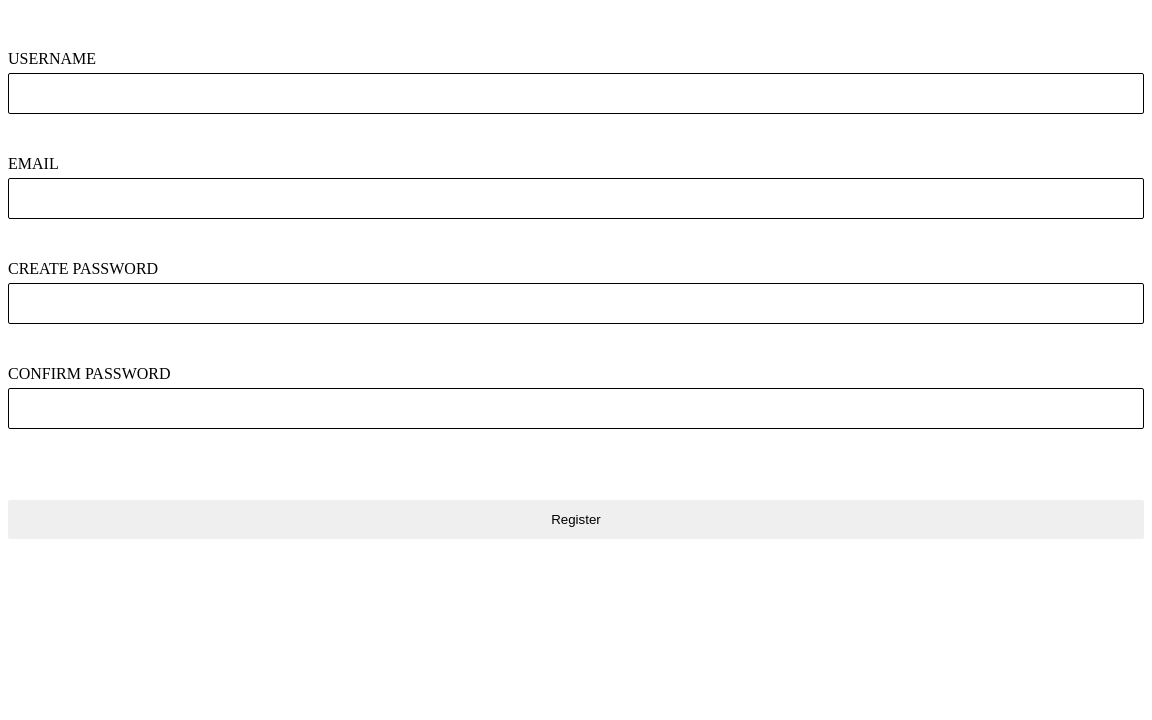
it: should render password error on weak password
Type "short" into the password field labelled "CREATE PASSWORD" at coordinates (576, 304), box [8,283,1144,324]
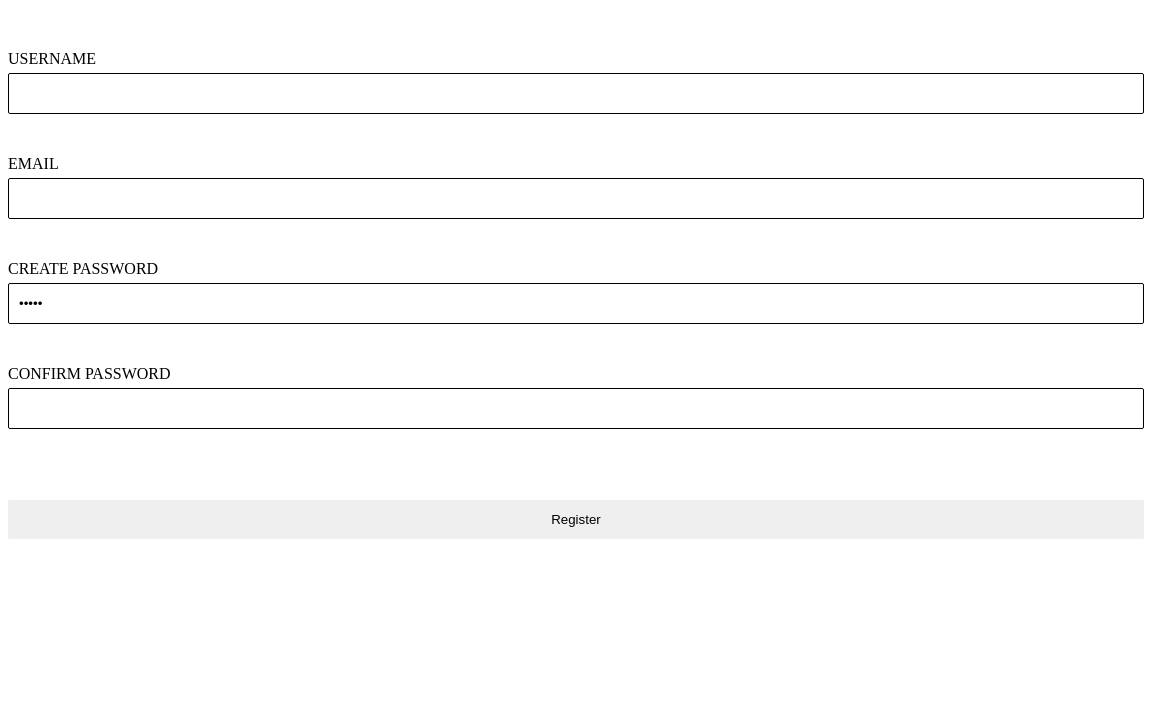
Click the button "Register" at coordinates (576, 520), box [8,500,1144,539]
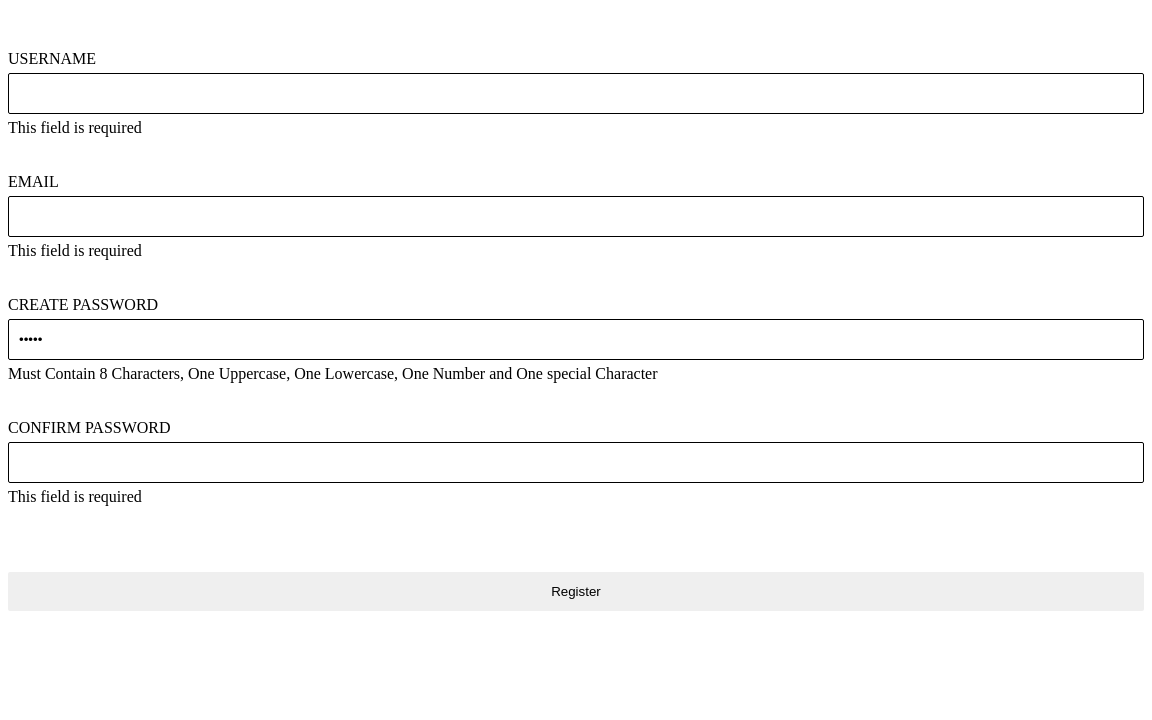
Expected: the text "Must Contain" is shown, [8,365,658,382]
Type "Password123!" into the password field labelled "CREATE PASSWORD" at coordinates (576, 340), box [8,319,1144,360]
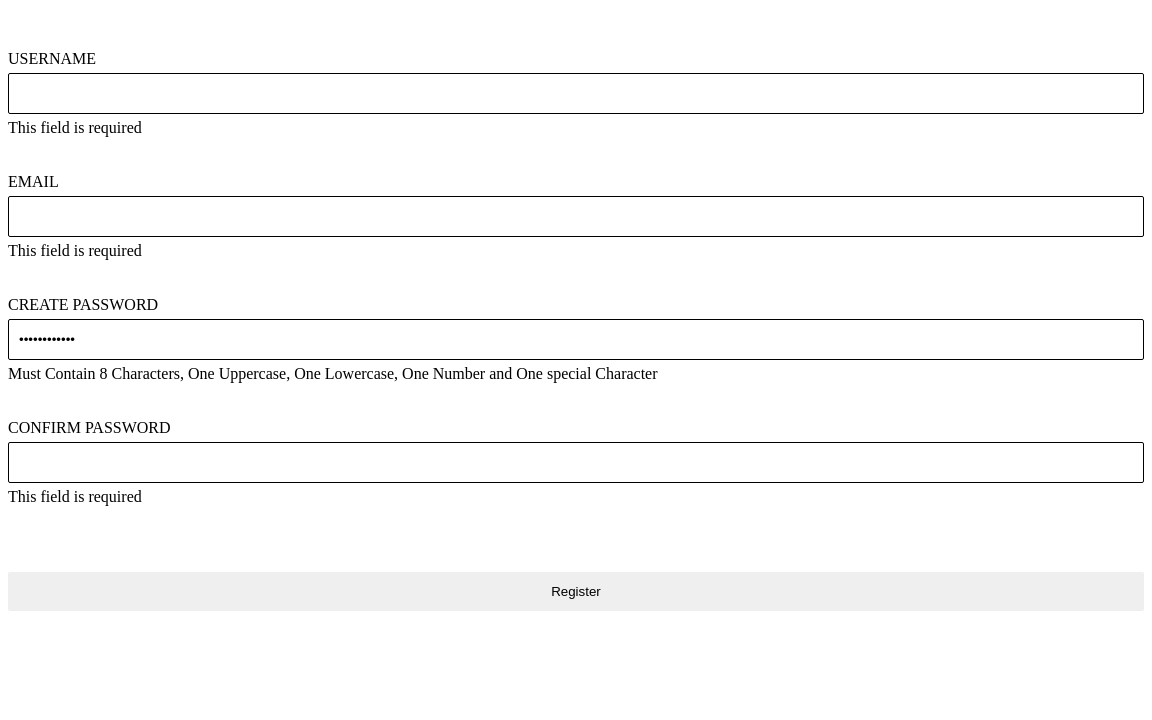
Click the button "Register" at coordinates (576, 592), box [8,572,1144,611]
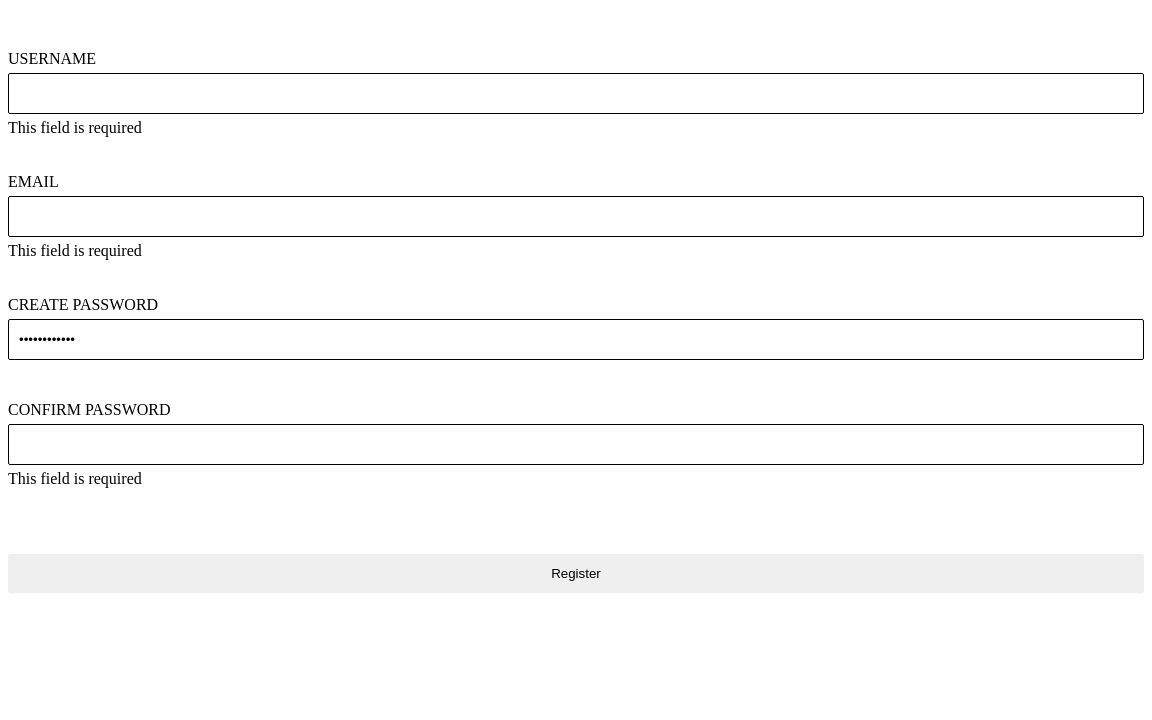
Expected: the text "Must Contain" is gone
Type "Password123" into the password field labelled "CREATE PASSWORD" at coordinates (576, 340), box [8,319,1144,360]
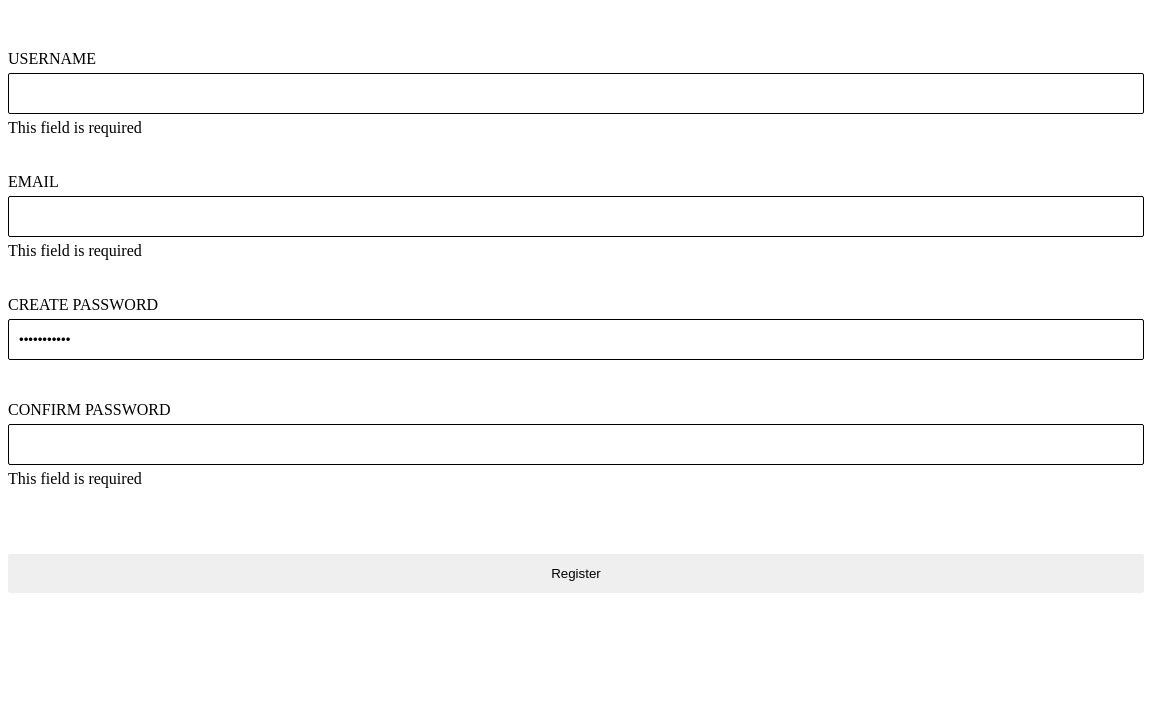
Click the button "Register" at coordinates (576, 574), box [8,554,1144,593]
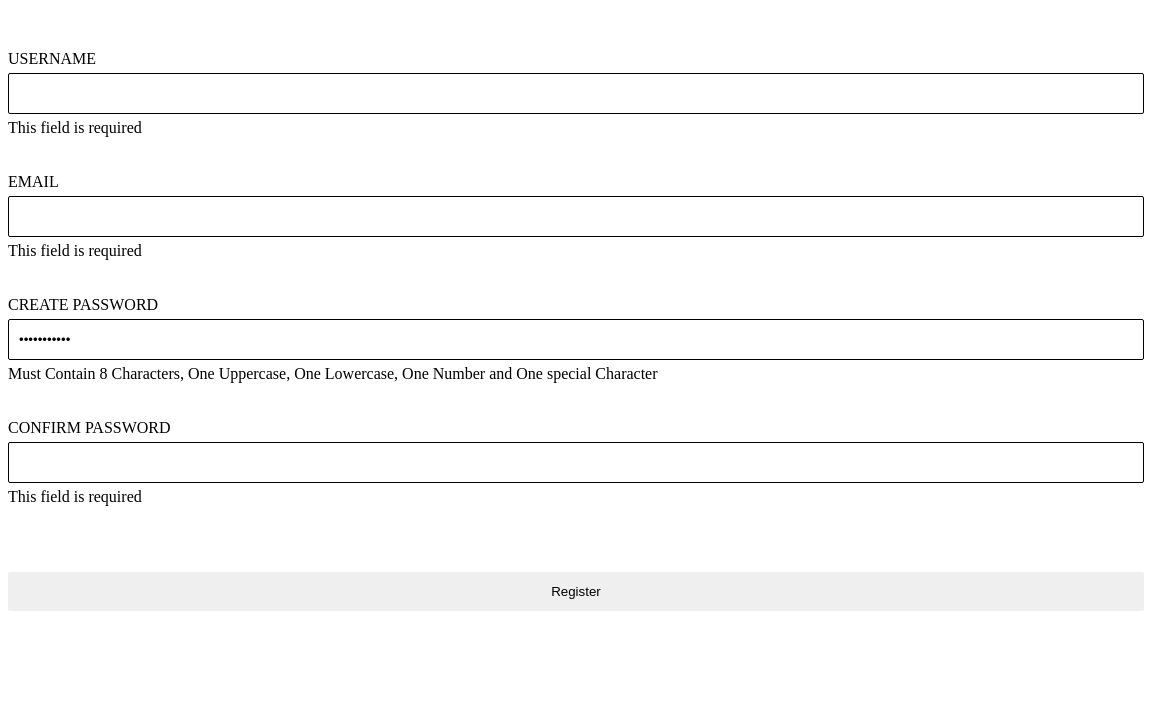
Expected: the text "Must Contain" is shown, [8,365,658,382]
